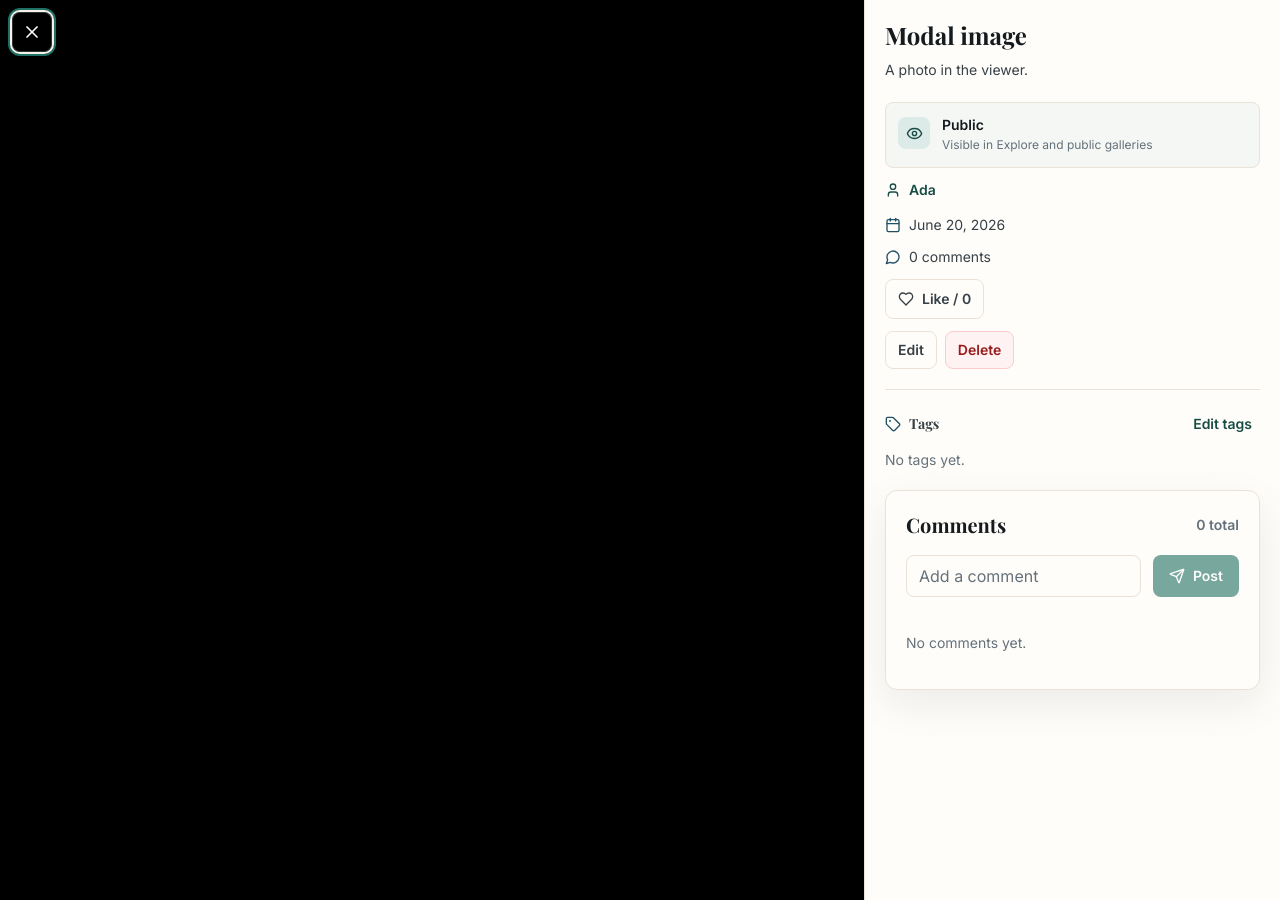
Test: PhotoViewerModal › updates photo metadata in the modal and exits edit mode on success
This screenshot has width=1280, height=900.
Click the button "Edit".
click(911, 350)  # box x1=885 y1=331 x2=937 y2=369
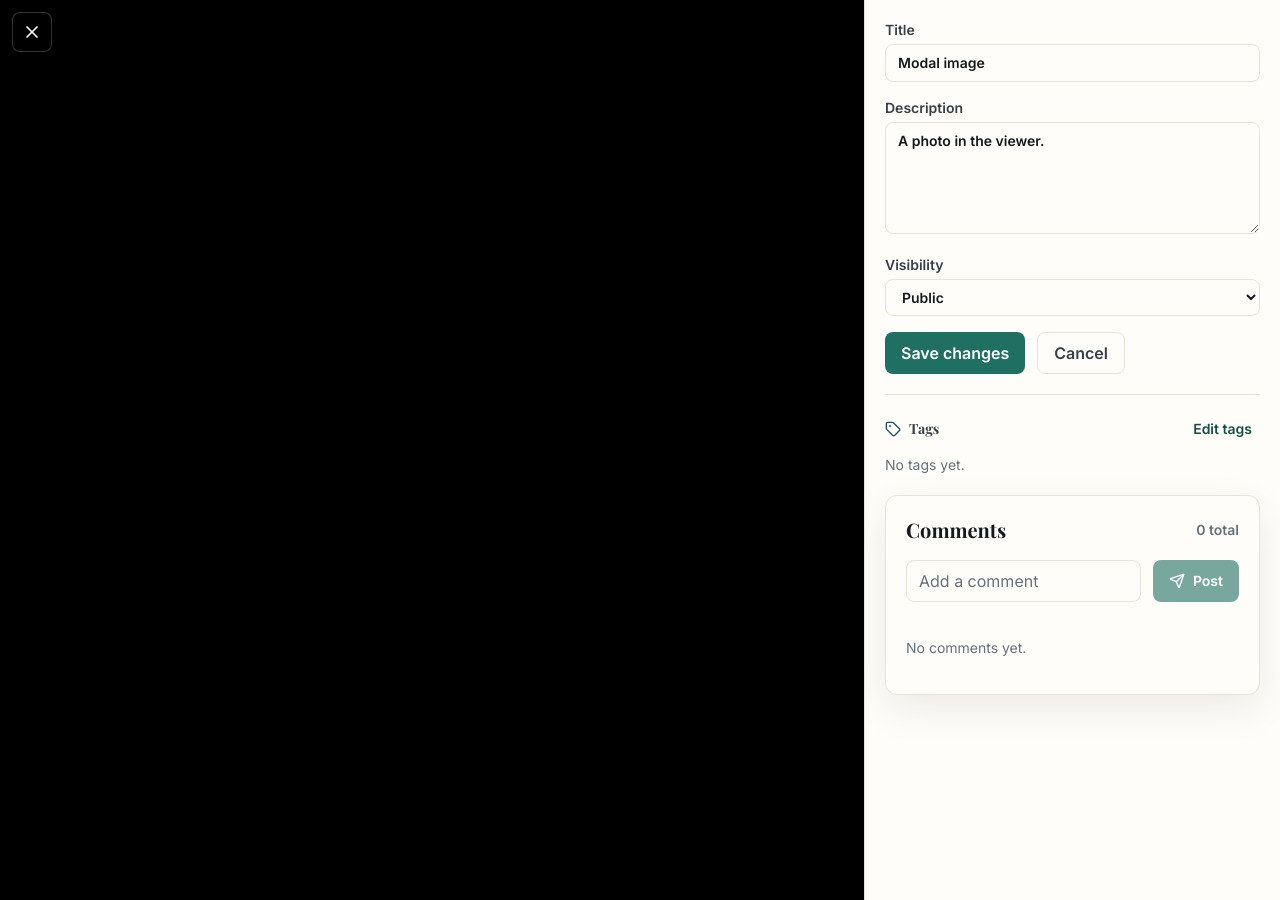
Replace the text in the field labelled "Title" with "Updated image" at (1072, 63), box x1=885 y1=44 x2=1260 y2=82
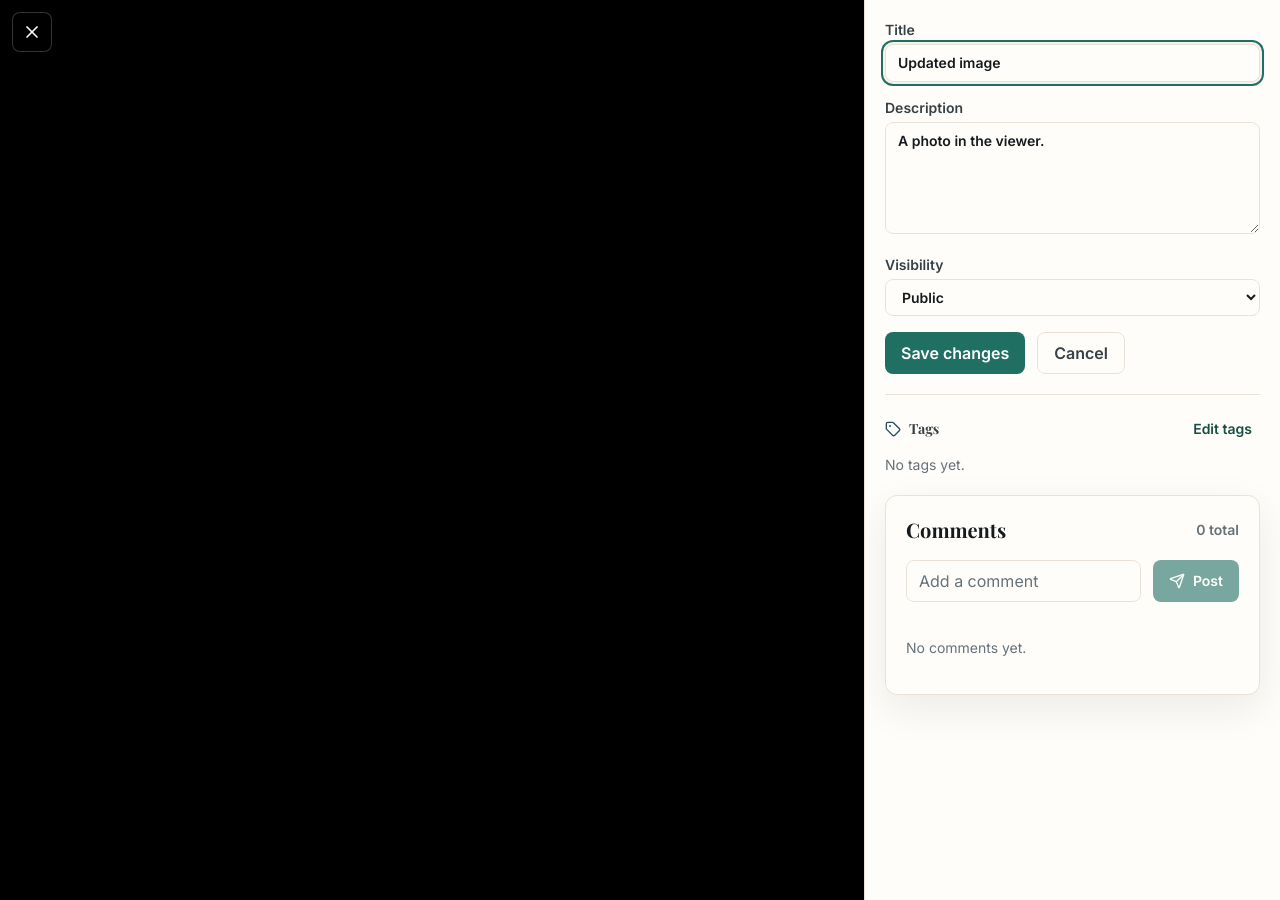
Replace the text in the text box labelled "Description" with "Updated description" at (1072, 178), box x1=885 y1=122 x2=1260 y2=234
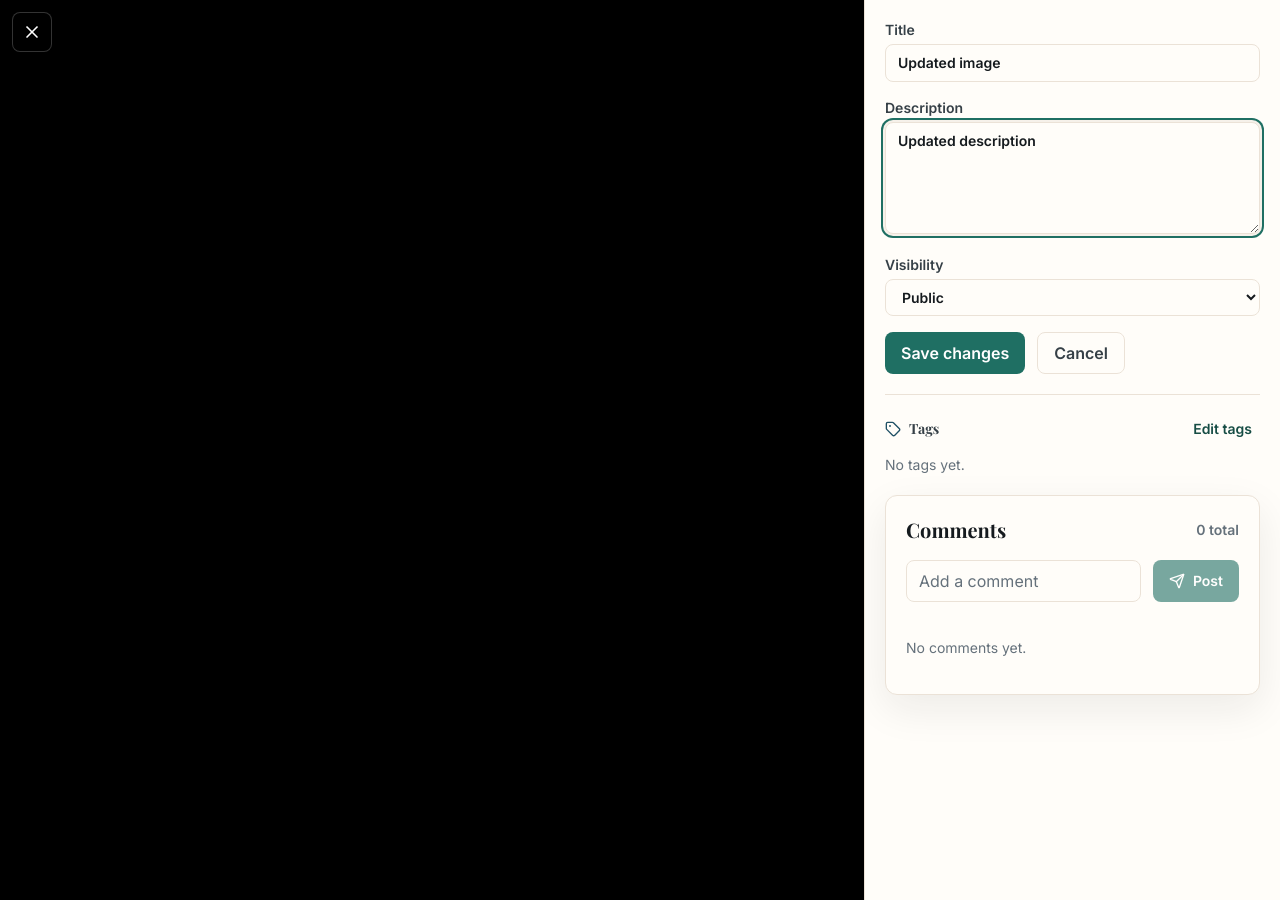
Select "Unlisted" in the dropdown labelled "Visibility" at (1072, 298), box x1=885 y1=279 x2=1260 y2=316
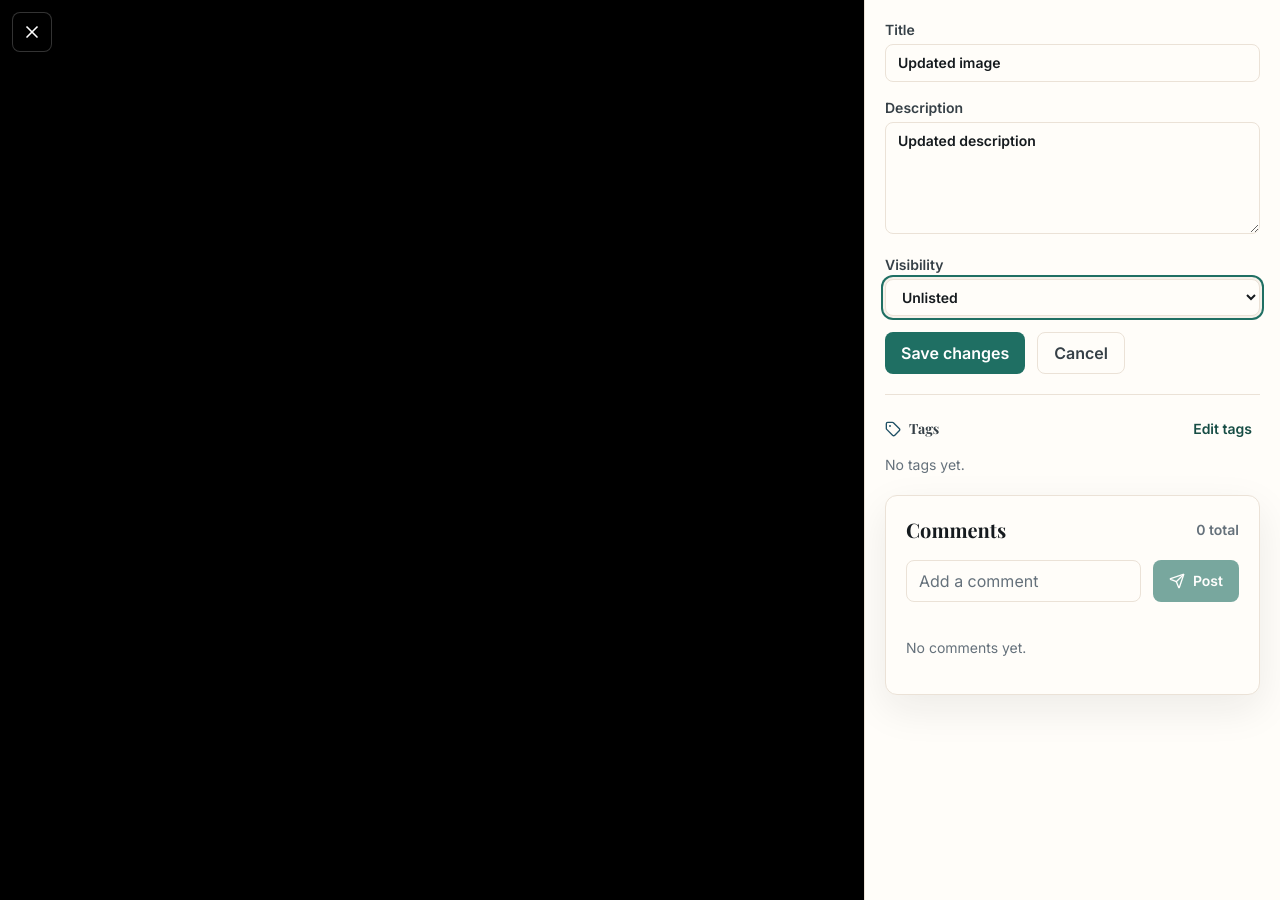
Click the button "Save changes".
click(955, 353)  # box x1=885 y1=332 x2=1025 y2=374
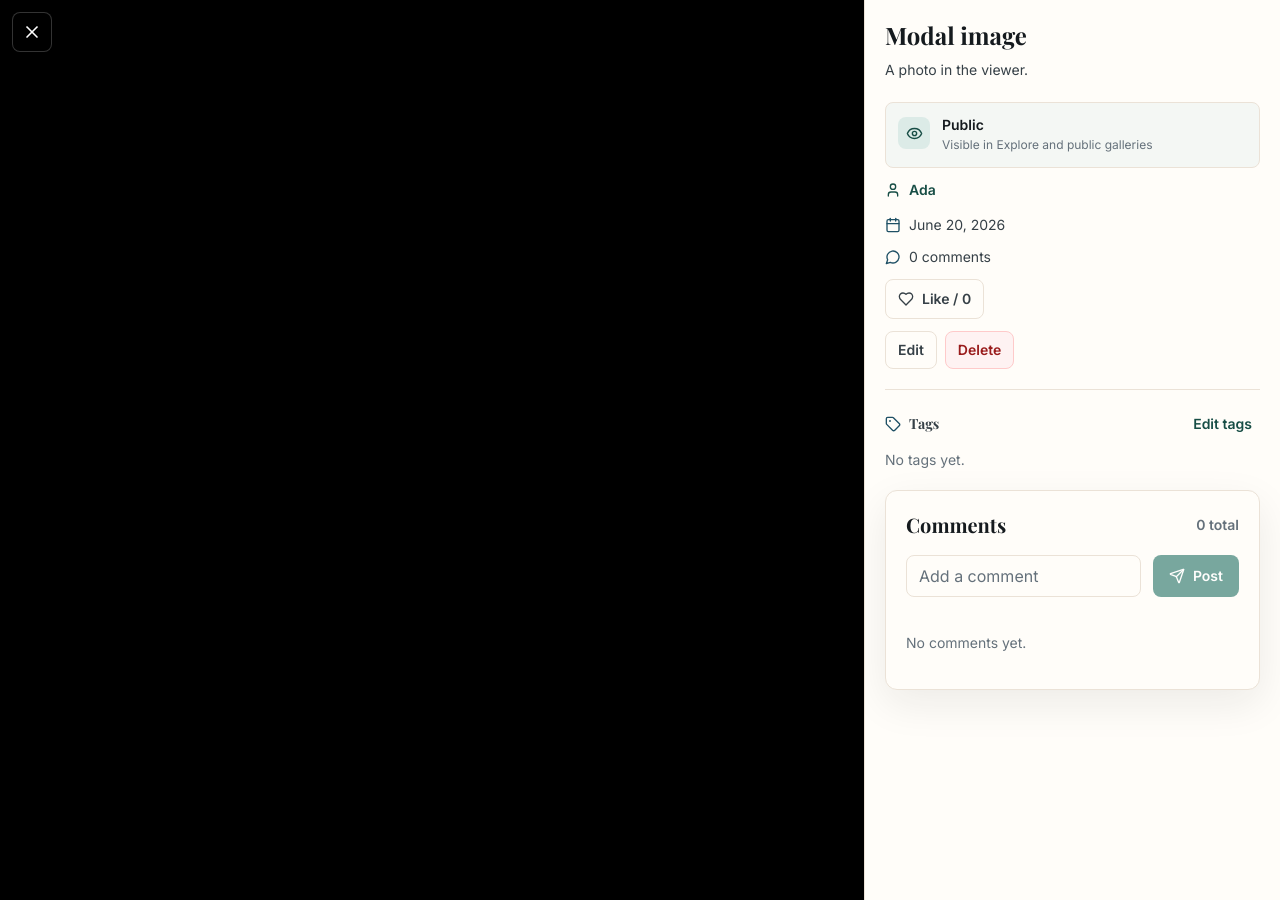
Now the button "Save changes" is gone
